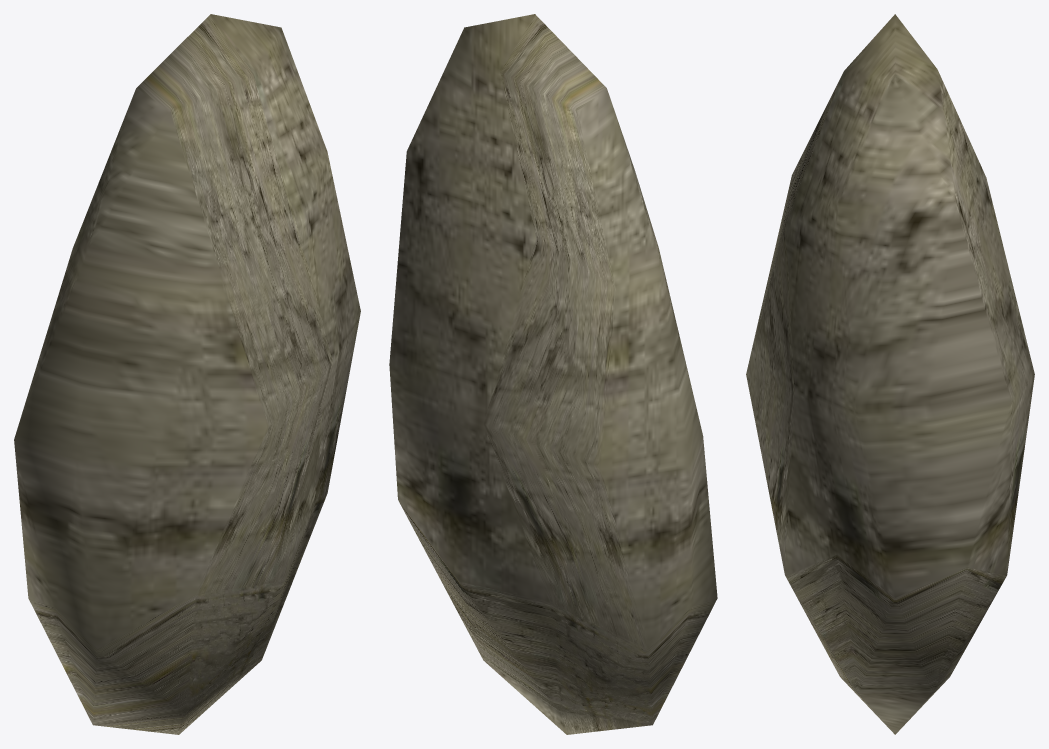
File: junction-stone-2.glb
The picture shows the model from 3 angles, left to right: view 1: azimuth 30°, elevation 25°; view 2: azimuth 150°, elevation 25°; view 3: azimuth 270°, elevation 25°; orthographic projection. The views are drawn at different scales.
Parts seen in each view (by area): view 1: junction-stone-2; view 2: junction-stone-2; view 3: junction-stone-2.
Boxes of the visible parts, x1=… form: junction-stone-2: x1=14, y1=14, x2=360, y2=734; junction-stone-2: x1=389, y1=14, x2=717, y2=734; junction-stone-2: x1=746, y1=14, x2=1034, y2=734.
Size of the model in its own units: 0.6786 by 1.5 by 0.5328.
1 material, 1 textured.
